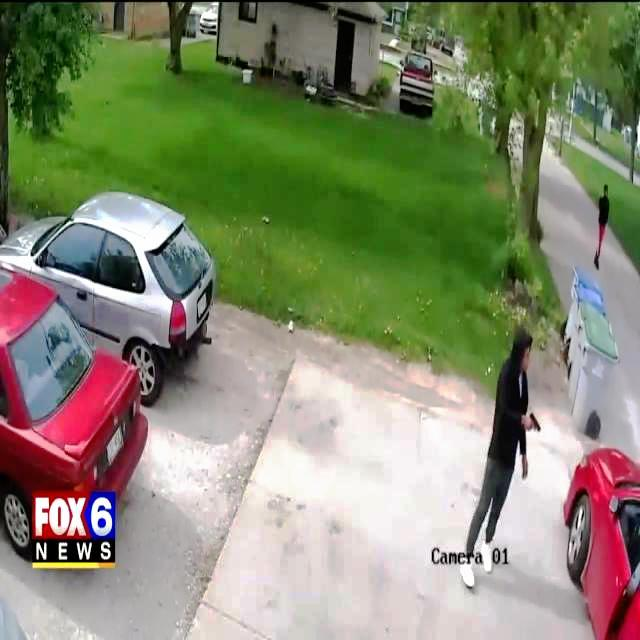Gun: (520, 407, 548, 445)
